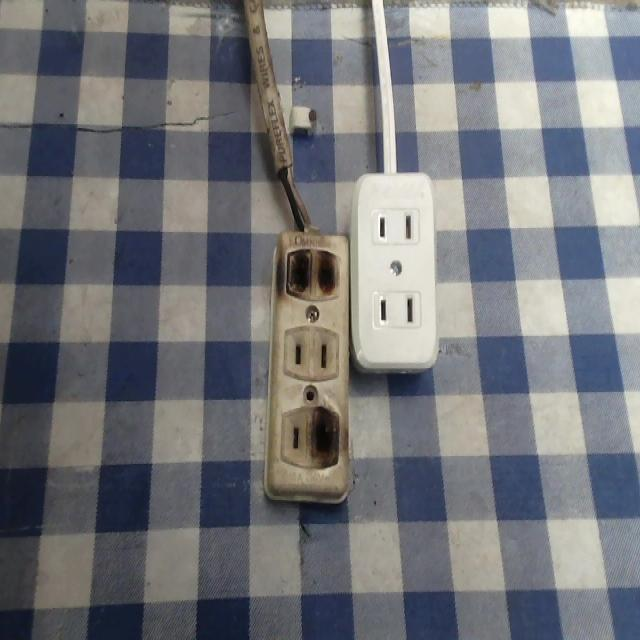-: (277, 243, 341, 304), (304, 403, 344, 473)
